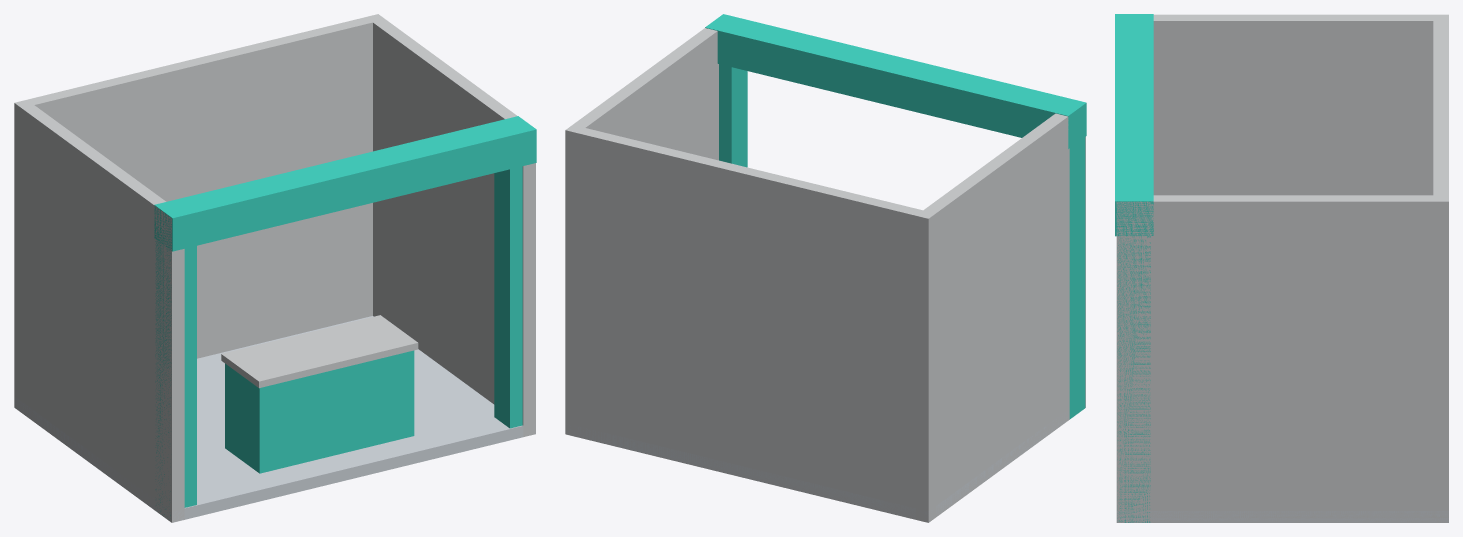
The picture shows the model from 3 angles, left to right: view 1: azimuth 30°, elevation 25°; view 2: azimuth 150°, elevation 25°; view 3: azimuth 270°, elevation 25°; orthographic projection. The views are drawn at different scales.
Visible parts, largest first — view 1: Exhibition Booth Concept; view 2: Exhibition Booth Concept; view 3: Exhibition Booth Concept.
Part boxes in pixels (x1,y1,x2,y2): Exhibition Booth Concept: (14, 14, 536, 522); Exhibition Booth Concept: (565, 14, 1086, 522); Exhibition Booth Concept: (1115, 14, 1448, 522).
Bounding box in the file's own units: 4 × 3.2 × 3.01.
